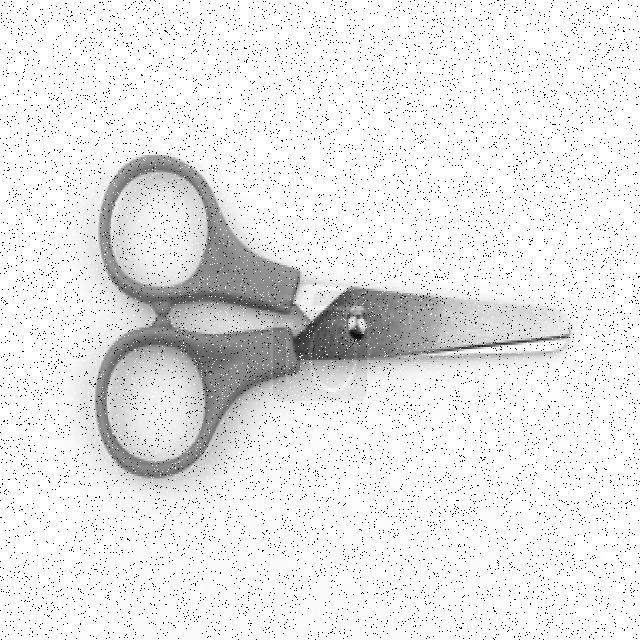scissors: (92, 148, 572, 482)
